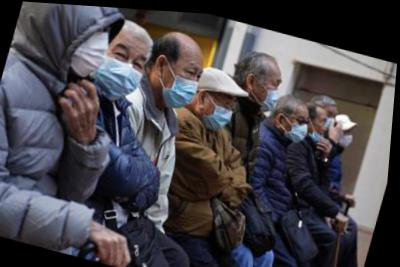OK: (90, 35, 154, 106), (66, 14, 116, 82), (157, 50, 207, 111), (203, 85, 241, 132), (253, 65, 286, 110), (283, 103, 315, 140), (321, 104, 341, 131), (340, 120, 358, 144)
WRONG: (309, 107, 332, 140)
